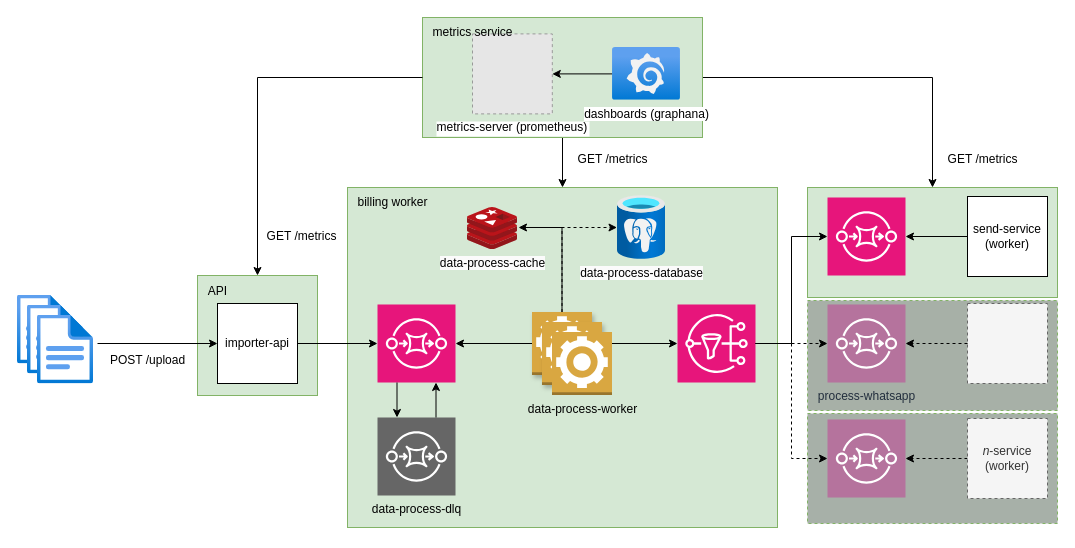
Some shapes in this 1075 by 548 pixel diagram are drawn without their labels. Grey dashed boxes stand in for pictures. The shapes that lost their labels are listed below. From the top down, each one's centre as x and y in pixels, then its label:
the point at 866,236: process-email
the point at 416,343: data-process
the point at 716,343: data-process-topic
the point at 1007,343: whatsapp-service (worker)
the point at 866,458: process- n
